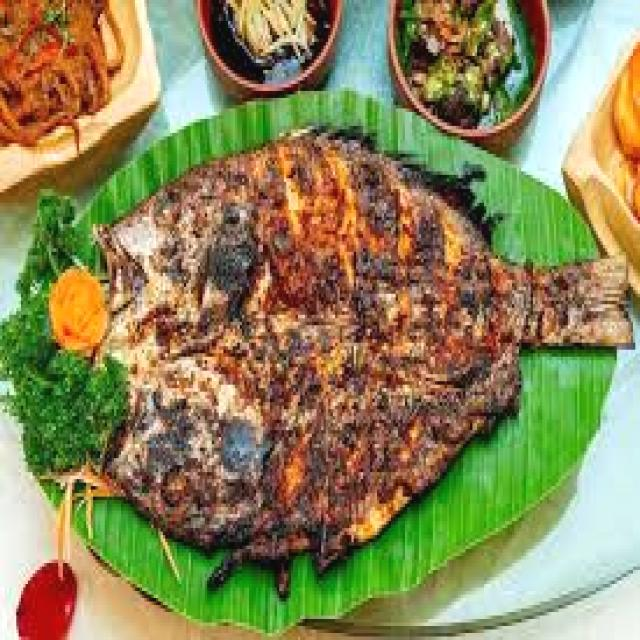ikan bakar: (95, 136, 633, 567)
